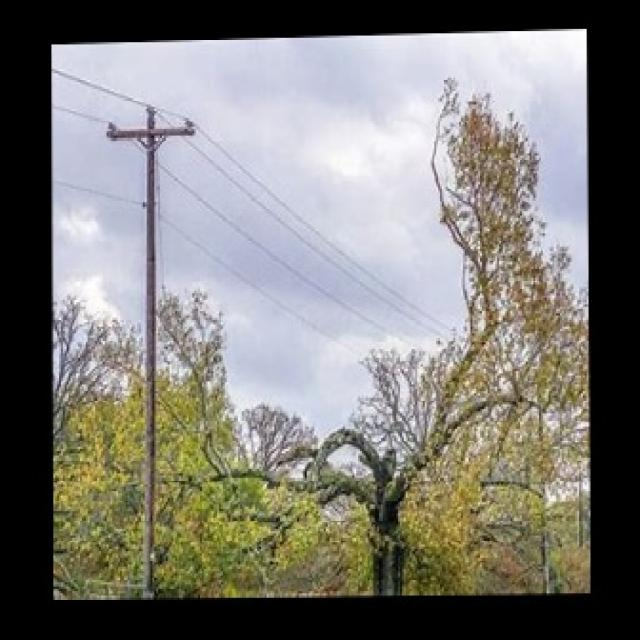utility poles: (106, 101, 198, 596)
